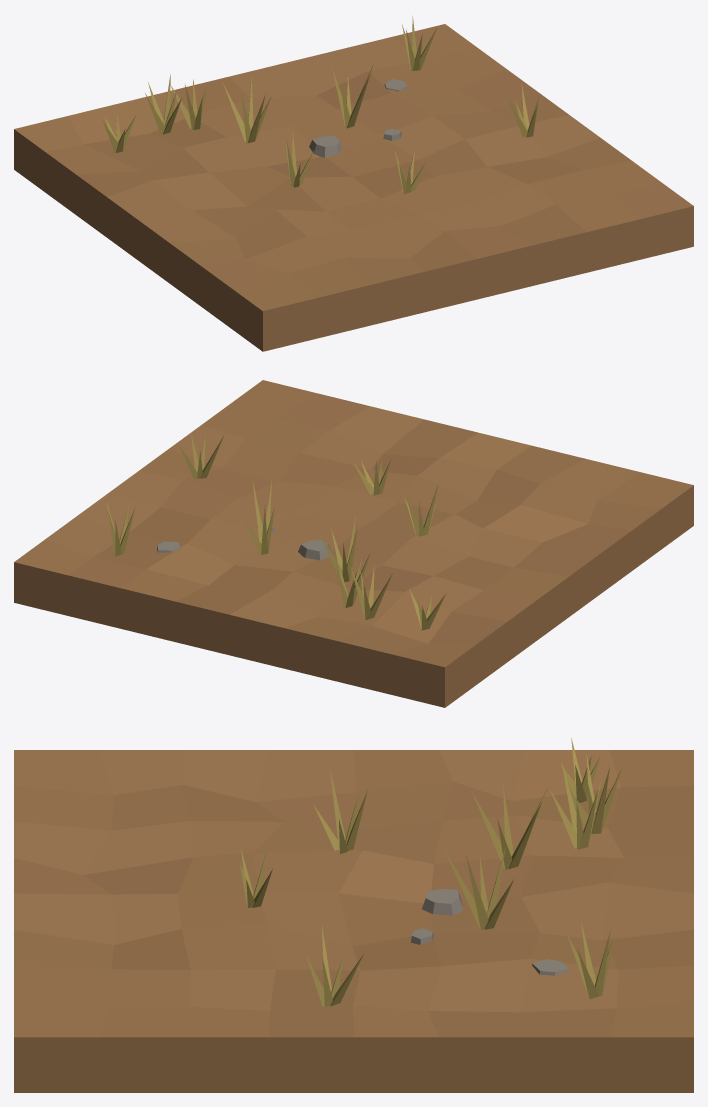
Rendered from SM_Ground_Grass_Patchy.obj.
The picture shows the model from 3 angles, top to bottom: view 1: azimuth 30°, elevation 25°; view 2: azimuth 150°, elevation 25°; view 3: azimuth 270°, elevation 25°; orthographic projection. The views are drawn at different scales.
Parts seen in each view (by area): view 1: SM_Ground_Grass_Patchy; view 2: SM_Ground_Grass_Patchy; view 3: SM_Ground_Grass_Patchy.
Boxes of the visible parts, x1,y1,x2,y2 form: SM_Ground_Grass_Patchy: [14, 16, 693, 351]; SM_Ground_Grass_Patchy: [14, 380, 693, 707]; SM_Ground_Grass_Patchy: [14, 738, 693, 1092].
Size of the model in its own units: 2 by 0.4461 by 2.
